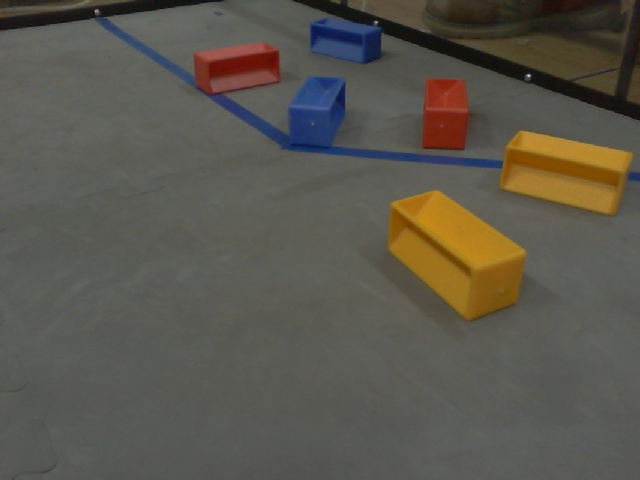BlueSample: (286, 74, 350, 151), (306, 16, 384, 63)
RedSample: (189, 40, 285, 93), (419, 74, 472, 154)
YellowSample: (382, 188, 527, 322), (494, 126, 637, 218)
